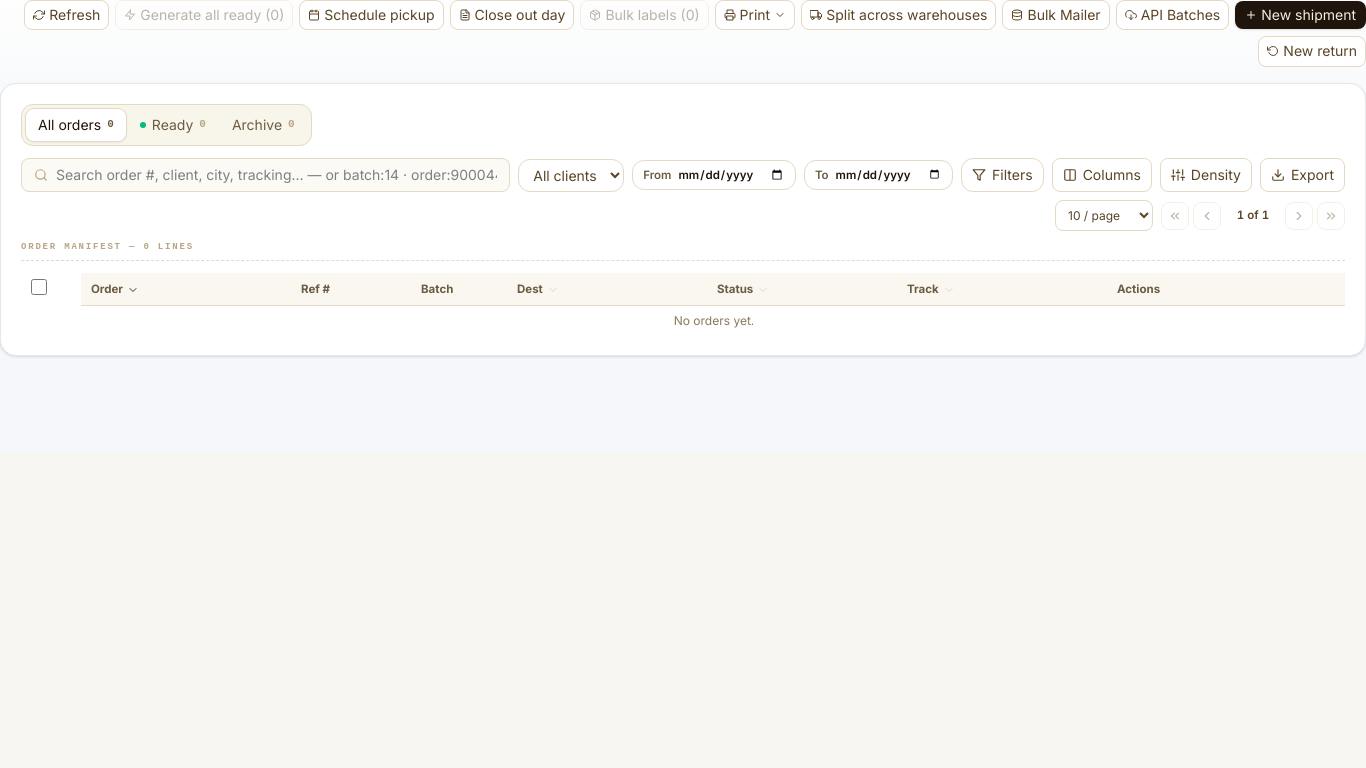
Test: OrdersWorkspace — BUG-012 ship-vs-return filter › clear-all resets the ship-vs-return filter
Click the button "Filters" at (1002,175), box x1=961 y1=158 x2=1044 y2=192
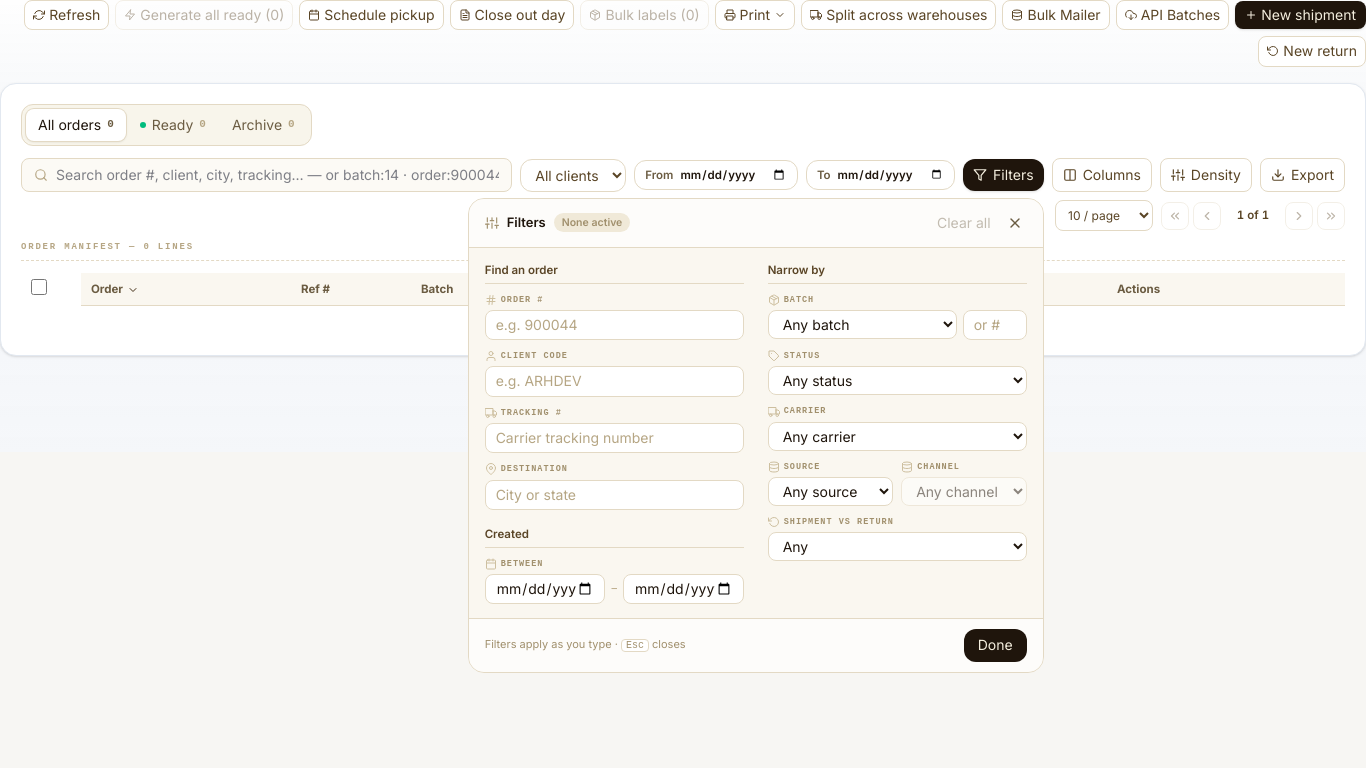
Select "Shipments only" in the dropdown showing "Any" at (897,547), box x1=768 y1=532 x2=1027 y2=561
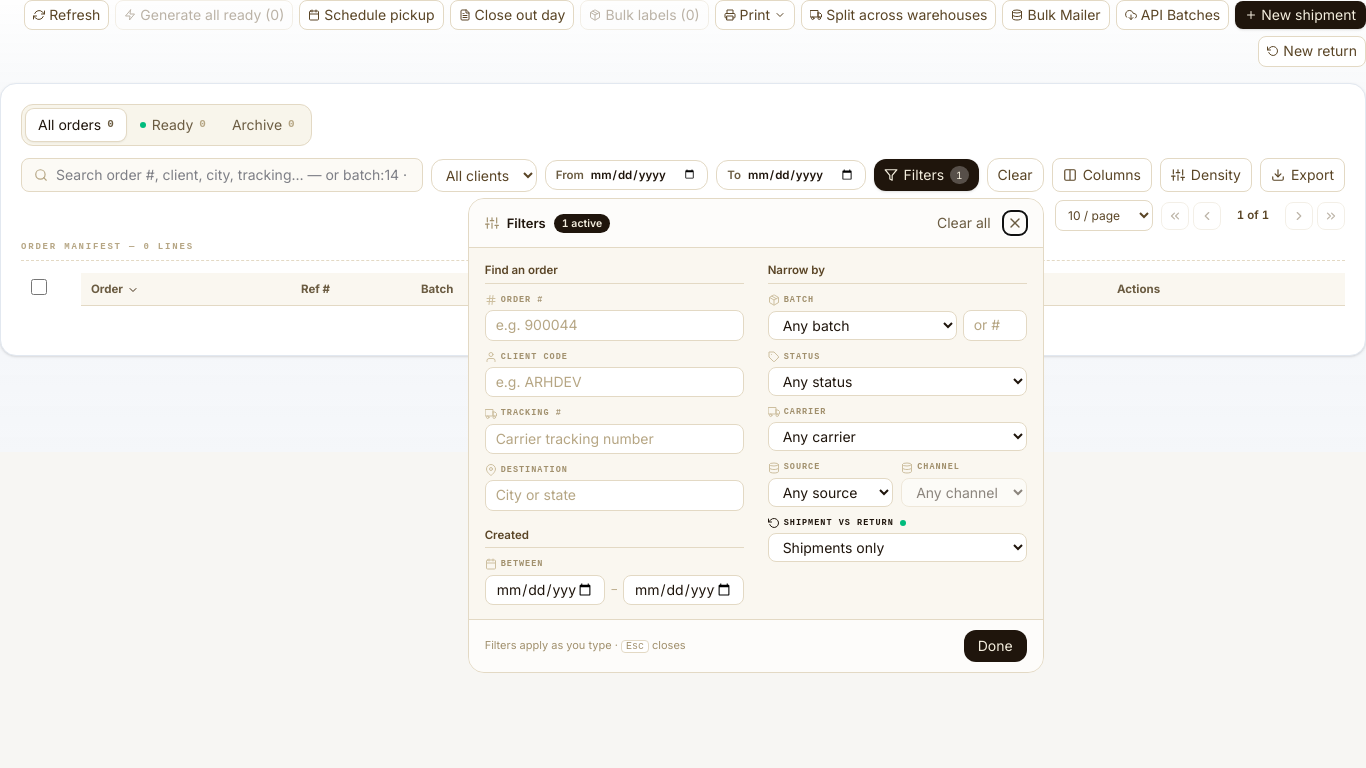
Badge appears → Clear button appears next to Filters.
Click the button "Clear" at (1015,175), box x1=987 y1=158 x2=1044 y2=192
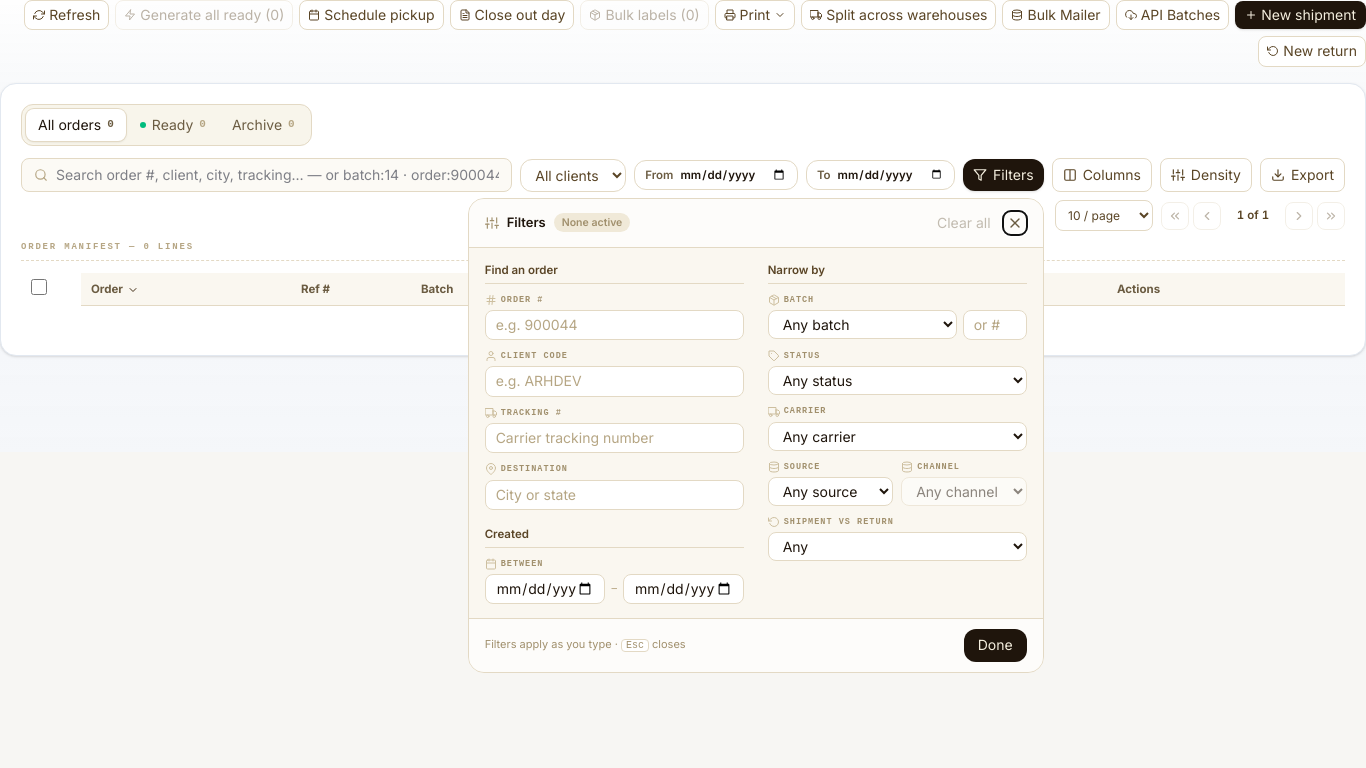
Result: the button "Filters 1" is gone
